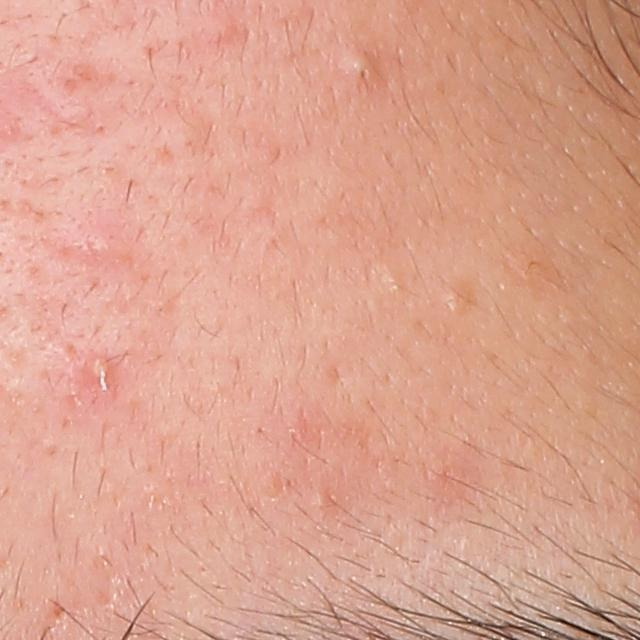comedo: (346, 50, 376, 84), (445, 287, 472, 315), (310, 487, 335, 510)
pustule: (81, 351, 114, 385)
